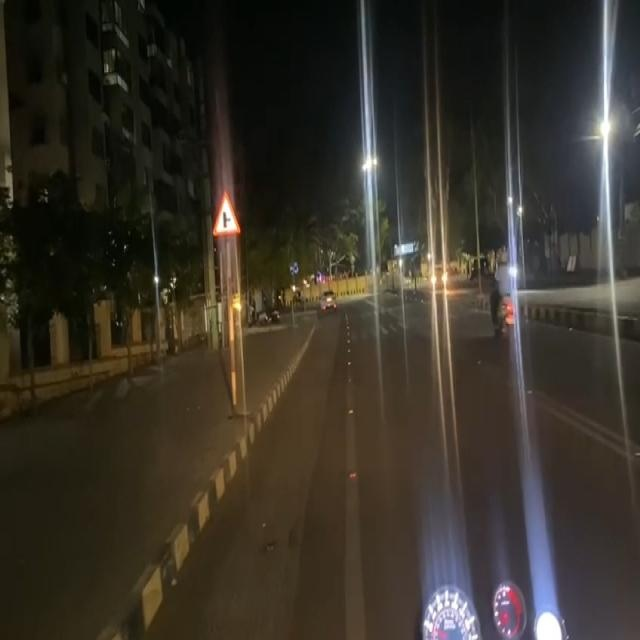bien_nguy_hiem: (211, 188, 242, 235)
